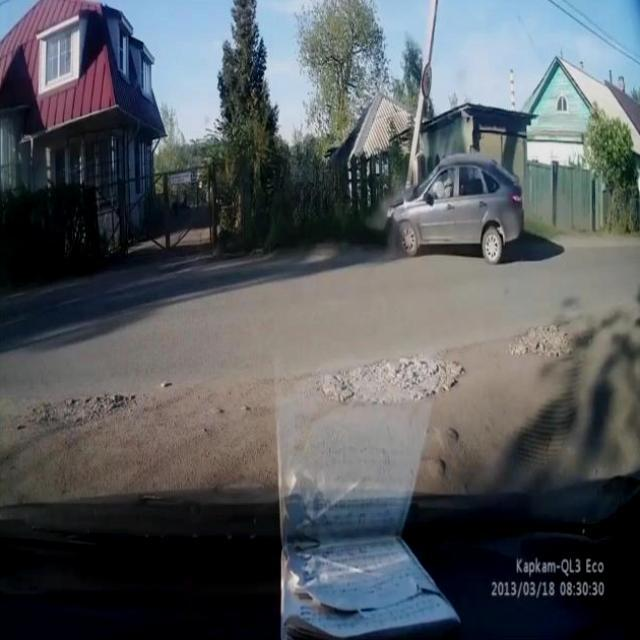accident: (381, 145, 528, 267)
